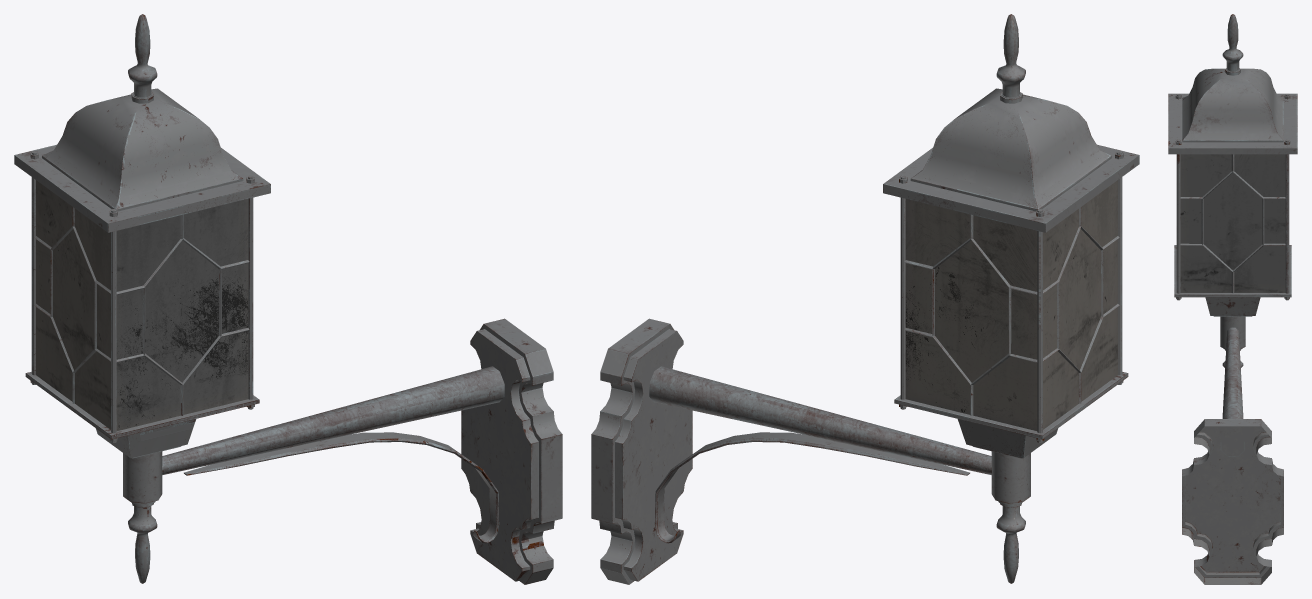
File: Lamp1(Asli) .fbx
The picture shows the model from 3 angles, left to right: view 1: azimuth 30°, elevation 25°; view 2: azimuth 150°, elevation 25°; view 3: azimuth 270°, elevation 25°; orthographic projection. The views are drawn at different scales.
Visible parts, largest first — view 1: Lamp_Main, Lamp1, Lamp_Pole, Lamp_Stick, Lamp_Cagak, Lamp_Pole_Base, Lamp_Glass_Wire_1, Lamp_Tip_1, Lamp_Tip_2, Lamp_Glass_Wire_2; view 2: Lamp_Main, Lamp1, Lamp_Pole, Lamp_Stick, Lamp_Cagak, Lamp_Pole_Base, Lamp_Glass_Wire_1, Lamp_Tip_1, Lamp_Tip_2, Lamp_Glass_Wire_2; view 3: Lamp_Main, Lamp1, Lamp_Pole, Lamp_Stick, Lamp_Glass_Wire_2, Lamp_Tip_1, Lamp_Pole_Base.
Part boxes in pixels (x1,y1,x2,y2): Lamp_Main: (14,88,270,458); Lamp1: (461,318,562,584); Lamp_Pole: (162,366,504,474); Lamp_Stick: (31,151,253,442); Lamp_Cagak: (184,432,499,543); Lamp_Pole_Base: (123,451,162,505); Lamp_Glass_Wire_1: (116,214,249,415); Lamp_Tip_1: (128,14,157,103); Lamp_Tip_2: (128,503,157,583); Lamp_Glass_Wire_2: (34,207,110,403); Lamp_Main: (883,88,1139,458); Lamp1: (591,318,692,584); Lamp_Pole: (649,366,991,474); Lamp_Stick: (900,151,1122,442); Lamp_Cagak: (654,432,969,543); Lamp_Pole_Base: (991,451,1030,505); Lamp_Glass_Wire_1: (904,214,1037,415); Lamp_Tip_1: (996,14,1025,103); Lamp_Tip_2: (996,503,1025,583); Lamp_Glass_Wire_2: (1043,207,1119,403); Lamp_Main: (1168,68,1297,316); Lamp1: (1182,419,1283,584); Lamp_Pole: (1222,327,1243,418); Lamp_Stick: (1176,93,1289,300); Lamp_Glass_Wire_2: (1180,154,1285,292); Lamp_Tip_1: (1222,14,1243,75); Lamp_Pole_Base: (1220,316,1245,349).
Bounding box in the file's own units: 0.2818 × 0.0988 × 0.3738.
10 materials, 10 textured.
